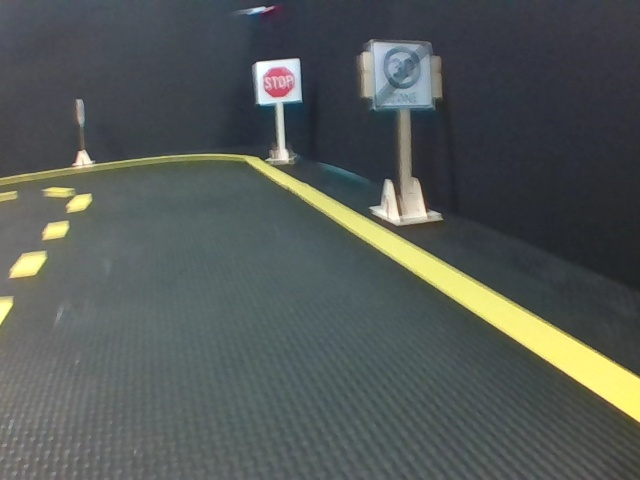no30: (370, 40, 434, 110)
stop: (256, 61, 300, 103)
